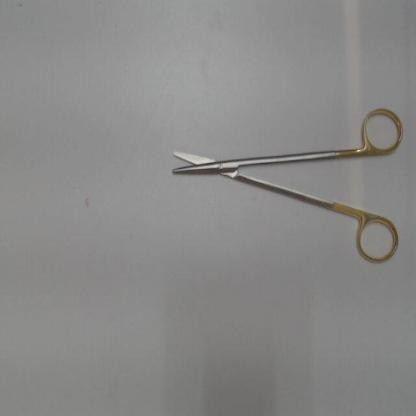7 Metzenbaum Scissors: (171, 105, 404, 266)
